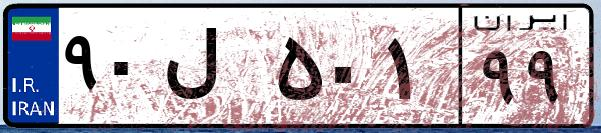0: (330, 28, 385, 110), (110, 28, 158, 98)
1: (385, 28, 445, 110)
5: (270, 28, 330, 110)
9: (57, 26, 110, 100), (475, 38, 525, 113), (525, 38, 570, 115)
ل: (158, 20, 270, 120)
